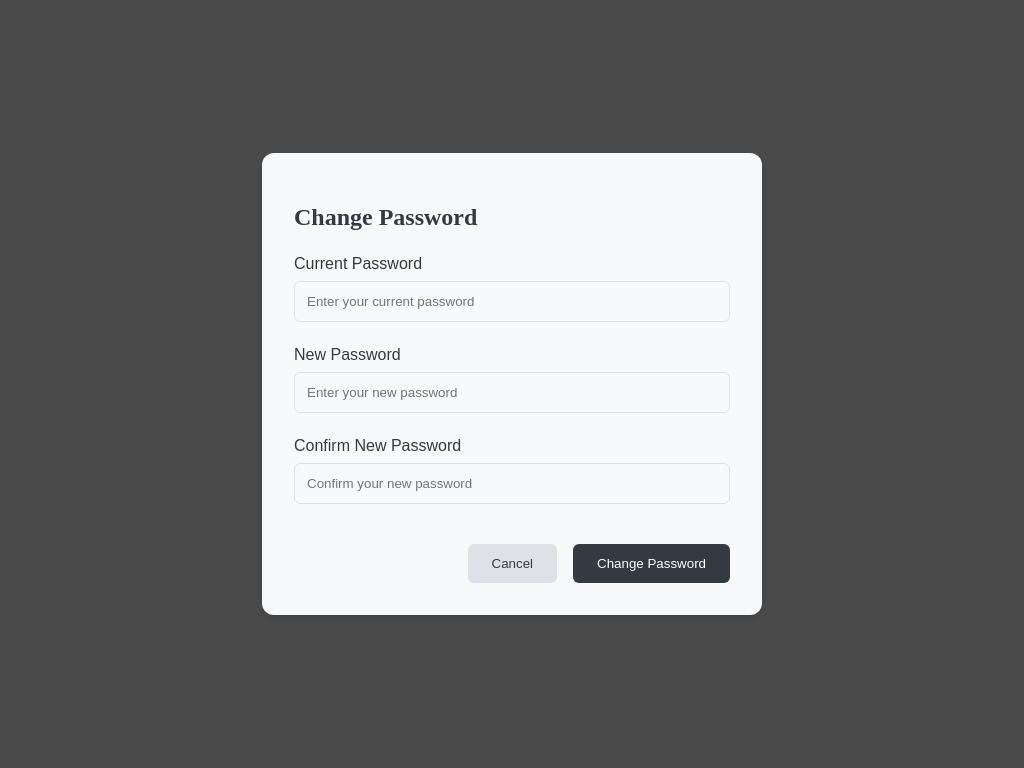
ChangePassword Modal › validates password match
Type "oldpass" into the password field with test id "current-password-input". click: point(512, 303)
box: [294,282,730,323]
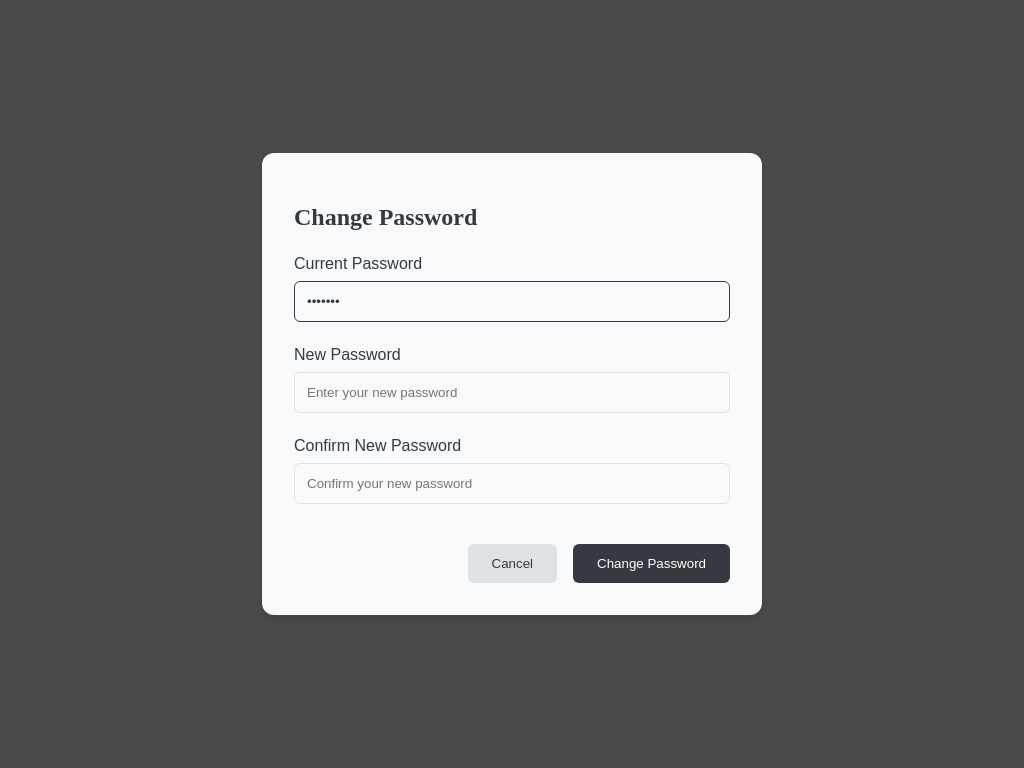
Type "NewPassword123!" into the password field with test id "new-password-input". click: point(512, 394)
box: [294,373,730,414]
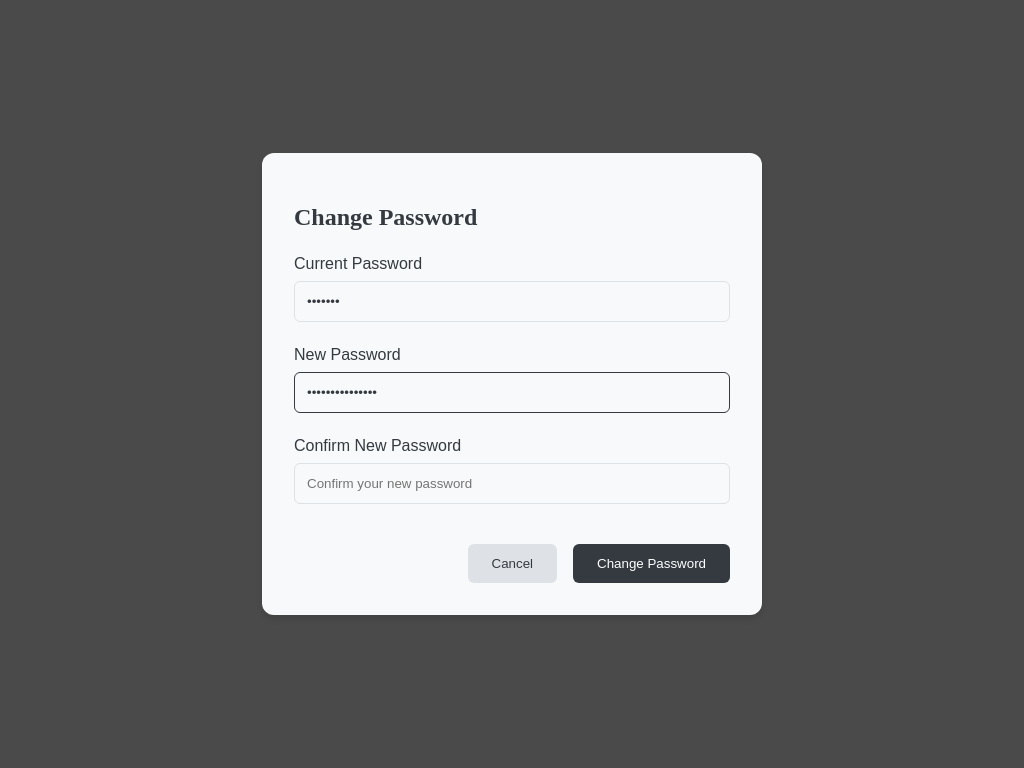
Type "DifferentPassword123!" into the password field with test id "confirm-password-input". click: point(512, 485)
box: [294,464,730,505]
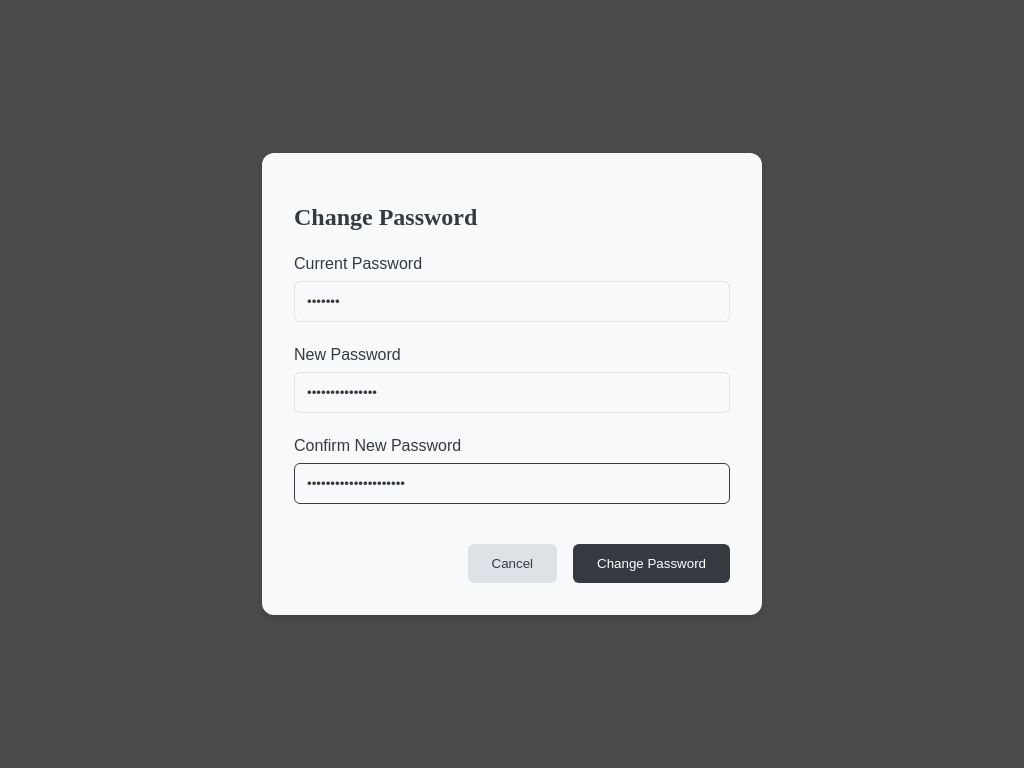
Click the button with test id "change-password-save". click: point(652, 565)
box: [573,545,730,584]
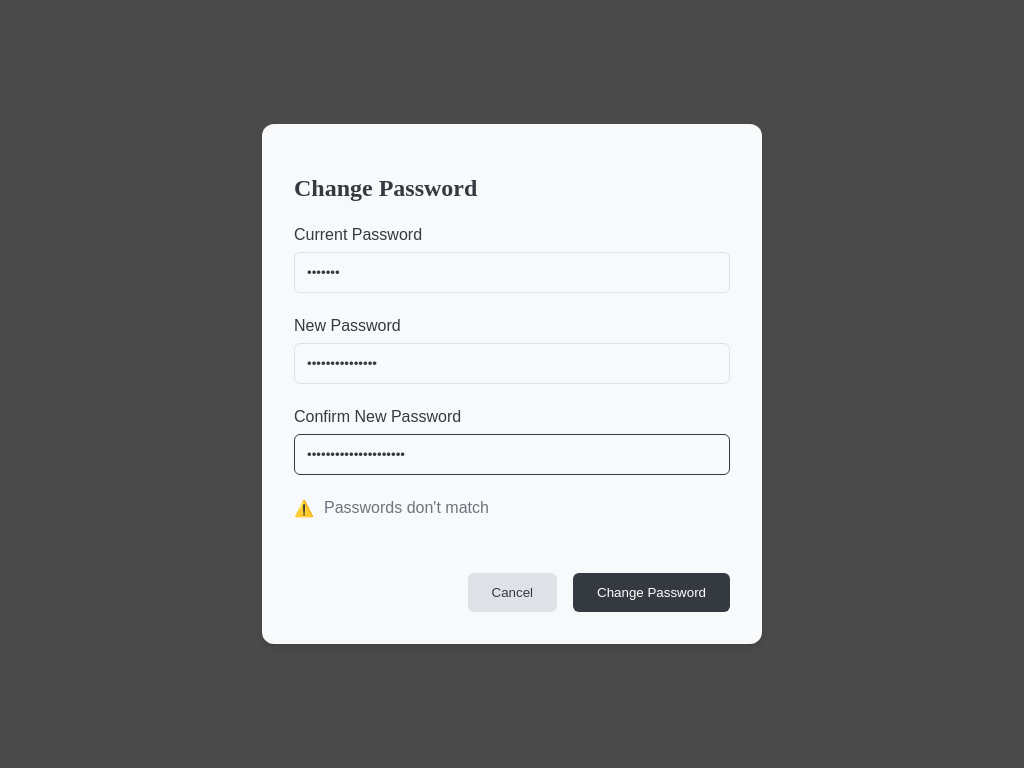
Check: the text with test id "error-message" reads "Passwords don't match", box [324,499,489,516]
